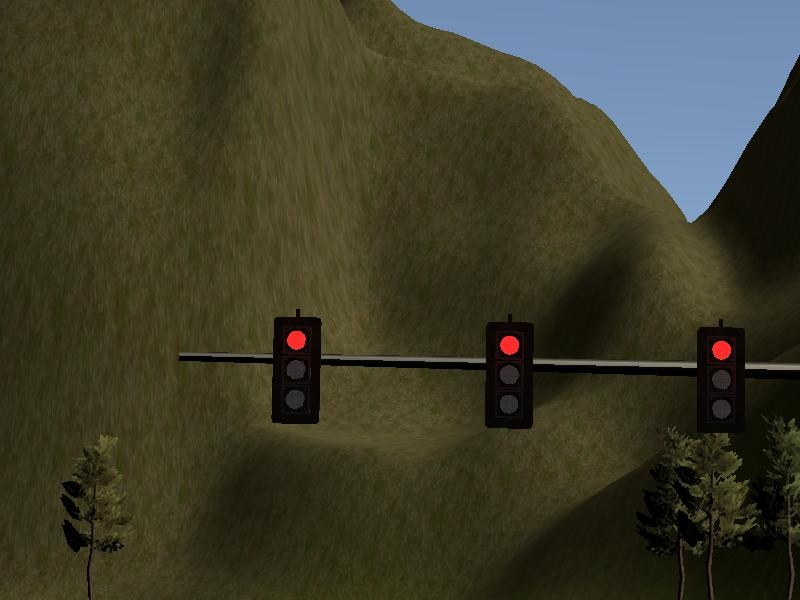red: (267, 305, 326, 429), (481, 310, 537, 435), (692, 317, 749, 431)
